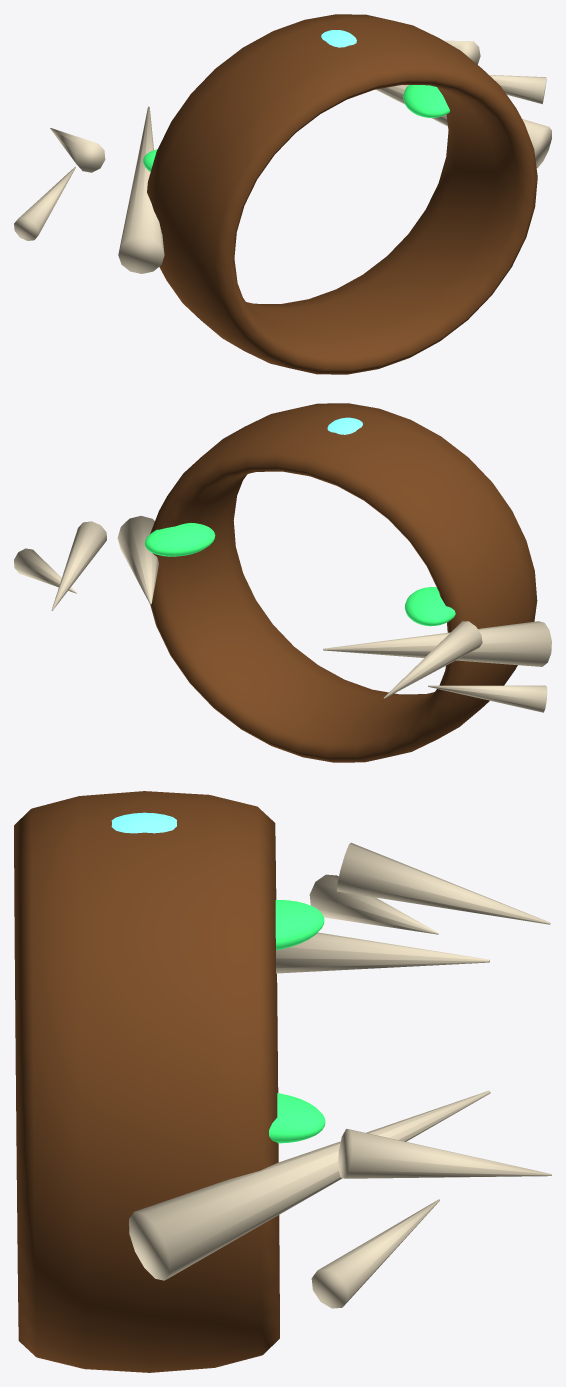
Rendered from hat_antlers.glb.
3 renders of one model, top to bottom at view 1: azimuth 30°, elevation 25°; view 2: azimuth 150°, elevation 25°; view 3: azimuth 270°, elevation 25°, orthographic. The views are drawn at different scales.
Parts seen in each view (by area): view 1: Hat_hat_antlers_ForestCirclet, Hat_hat_antlers_AntlerStem_-1, Hat_hat_antlers_AntlerTineB_-1, Hat_hat_antlers_AntlerLeaf_1, Hat_hat_antlers_AntlerTineA_-1, Hat_hat_antlers_AntlerStem_1, Hat_hat_antlers_AntlerTineB_1, Hat_hat_antlers_RuneGem; view 2: Hat_hat_antlers_ForestCirclet, Hat_hat_antlers_AntlerStem_-1, Hat_hat_antlers_AntlerStem_1, Hat_hat_antlers_AntlerTineA_-1, Hat_hat_antlers_AntlerTineB_-1, Hat_hat_antlers_AntlerLeaf_1, Hat_hat_antlers_AntlerTineA_1, Hat_hat_antlers_AntlerLeaf_-1, Hat_hat_antlers_AntlerTineB_1, Hat_hat_antlers_RuneGem; view 3: Hat_hat_antlers_ForestCirclet, Hat_hat_antlers_AntlerStem_1, Hat_hat_antlers_AntlerTineA_-1, Hat_hat_antlers_AntlerTineA_1, Hat_hat_antlers_AntlerStem_-1, Hat_hat_antlers_AntlerTineB_1, Hat_hat_antlers_AntlerTineB_-1, Hat_hat_antlers_AntlerLeaf_1, Hat_hat_antlers_AntlerLeaf_-1, Hat_hat_antlers_RuneGem.
Boxes of the visible parts, left/top/right/bottom form: Hat_hat_antlers_ForestCirclet: left=147, top=14, right=537, bottom=374; Hat_hat_antlers_AntlerStem_-1: left=118, top=106, right=164, bottom=273; Hat_hat_antlers_AntlerTineB_-1: left=14, top=166, right=75, bottom=240; Hat_hat_antlers_AntlerLeaf_1: left=403, top=85, right=450, bottom=117; Hat_hat_antlers_AntlerTineA_-1: left=50, top=128, right=105, bottom=172; Hat_hat_antlers_AntlerStem_1: left=376, top=85, right=551, bottom=168; Hat_hat_antlers_AntlerTineB_1: left=489, top=75, right=546, bottom=104; Hat_hat_antlers_RuneGem: left=321, top=30, right=356, bottom=47; Hat_hat_antlers_ForestCirclet: left=150, top=403, right=537, bottom=762; Hat_hat_antlers_AntlerStem_-1: left=323, top=621, right=551, bottom=666; Hat_hat_antlers_AntlerStem_1: left=117, top=516, right=158, bottom=604; Hat_hat_antlers_AntlerTineA_-1: left=383, top=621, right=482, bottom=698; Hat_hat_antlers_AntlerTineB_-1: left=428, top=685, right=547, bottom=712; Hat_hat_antlers_AntlerLeaf_1: left=144, top=523, right=215, bottom=556; Hat_hat_antlers_AntlerTineA_1: left=51, top=521, right=106, bottom=610; Hat_hat_antlers_AntlerLeaf_-1: left=405, top=587, right=455, bottom=626; Hat_hat_antlers_AntlerTineB_1: left=14, top=548, right=76, bottom=593; Hat_hat_antlers_RuneGem: left=327, top=417, right=362, bottom=434; Hat_hat_antlers_ForestCirclet: left=14, top=791, right=279, bottom=1372; Hat_hat_antlers_AntlerStem_1: left=129, top=1090, right=490, bottom=1280; Hat_hat_antlers_AntlerTineA_-1: left=337, top=842, right=550, bottom=924; Hat_hat_antlers_AntlerTineA_1: left=338, top=1128, right=551, bottom=1178; Hat_hat_antlers_AntlerStem_-1: left=276, top=932, right=489, bottom=973; Hat_hat_antlers_AntlerTineB_1: left=311, top=1199, right=439, bottom=1308; Hat_hat_antlers_AntlerTineB_-1: left=309, top=874, right=438, bottom=934; Hat_hat_antlers_AntlerLeaf_1: left=269, top=1093, right=325, bottom=1143; Hat_hat_antlers_AntlerLeaf_-1: left=275, top=900, right=324, bottom=950; Hat_hat_antlers_RuneGem: left=111, top=812, right=176, bottom=833.
Bounding box in the file's own units: 1.13 × 0.6486 × 0.6079.
